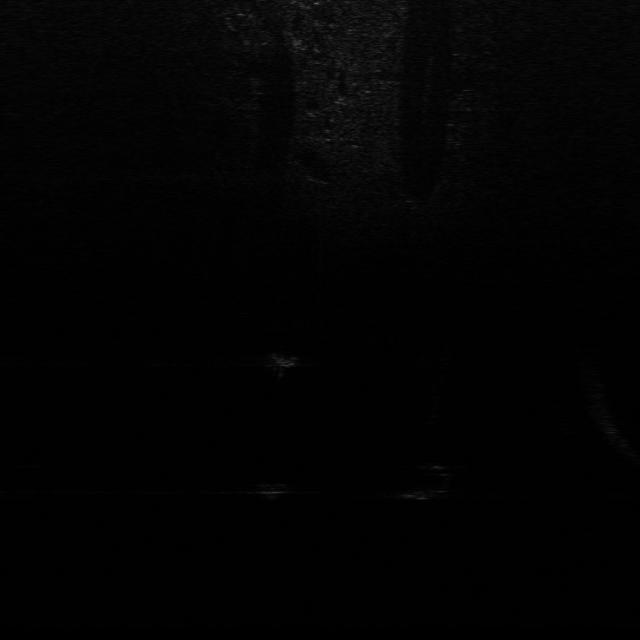cube: (254, 479, 292, 501)
square cage: (254, 345, 304, 371)
tyre: (387, 458, 459, 502)
